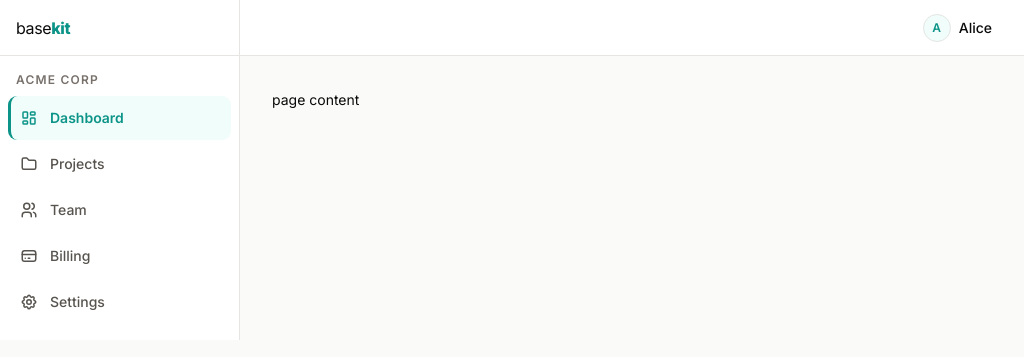
it: AppShell › shows an Admin link in the user menu only for admins
Click the button with aria-label "User menu".
click(957, 28)  # box [915,6,1000,50]
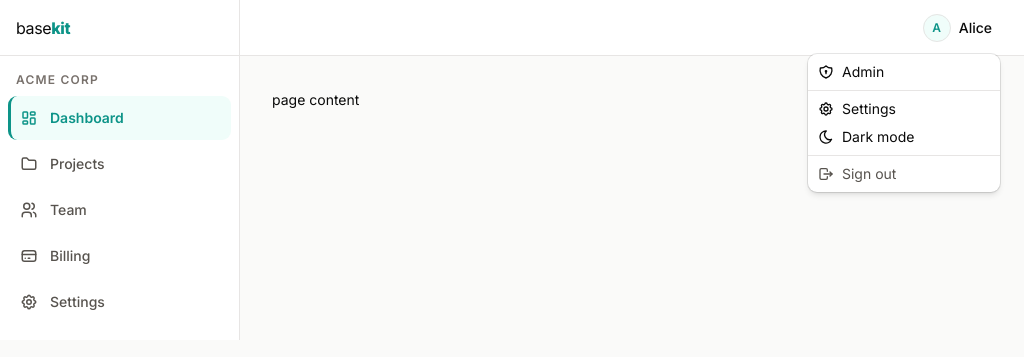
Now the menu item "Admin" is shown, box [818,63,884,80]
